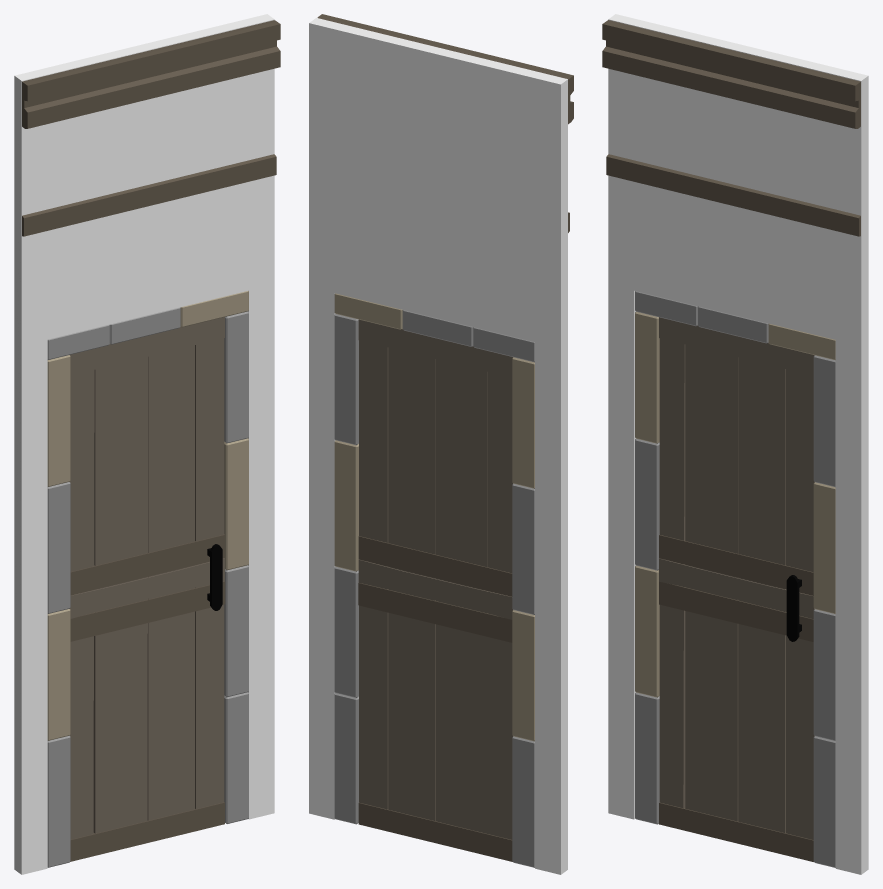
The model's file is DOOR_02_1.glb.
The picture shows the model from 3 angles, left to right: view 1: azimuth 30°, elevation 25°; view 2: azimuth 150°, elevation 25°; view 3: azimuth 330°, elevation 25°; orthographic projection.
Parts seen in each view (by area): view 1: DOOR_02_1; view 2: DOOR_02_1; view 3: DOOR_02_1.
Boxes of the visible parts, <box> form: DOOR_02_1: <box>14,14,280,874</box>; DOOR_02_1: <box>309,14,573,874</box>; DOOR_02_1: <box>602,14,868,874</box>.
Bounding box in the file's own units: 1 × 3 × 0.0899.
1 material, 1 textured.
